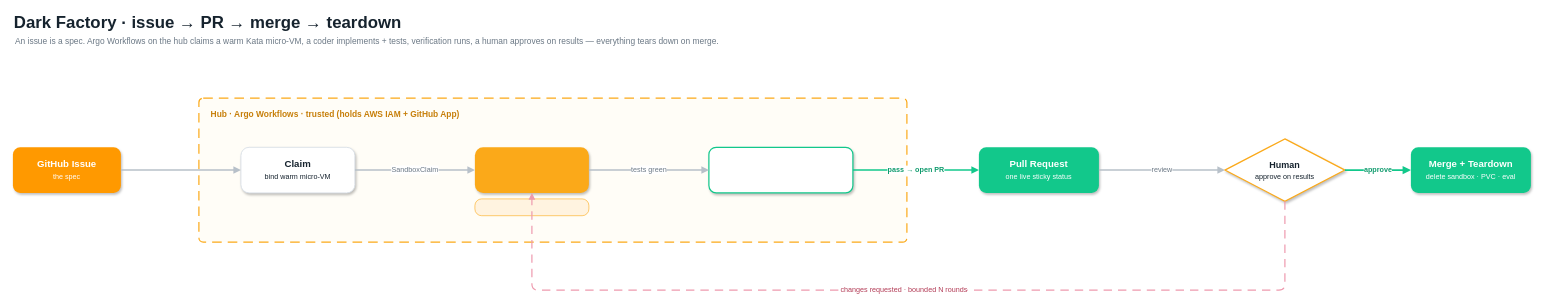
The diagram is 1544 pixels wide and 305 high, and some of its shapes have lost their labels. Here are the shapes that lost their labels. From the top down, the centre of each, then its label:
At (x=532, y=171): "Coder implement · build · test".
At (x=781, y=170): "Verify holdout ≥90% ∥ security ∥ devops".
At (x=531, y=207): "Kata micro-VM · no cloud creds".
